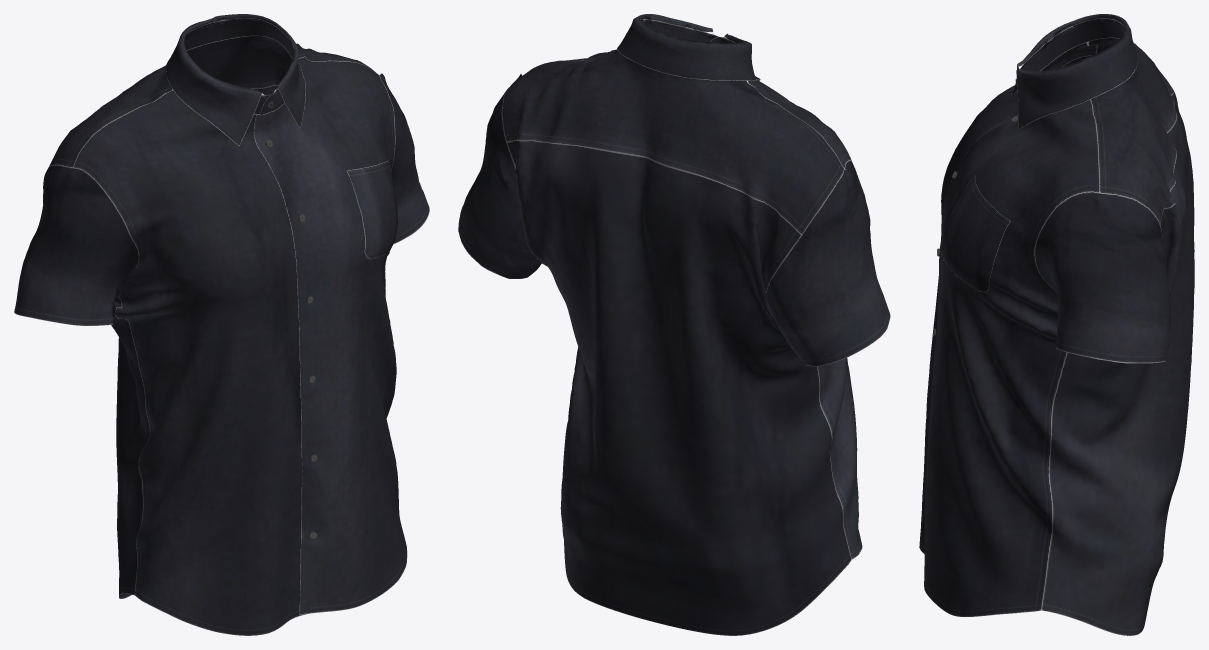
File: Grey half sleeve shirt,mtrapezoid-24.fbx
3 views of the same model, side by side, from view 1: azimuth 30°, elevation 25°; view 2: azimuth 150°, elevation 25°; view 3: azimuth 270°, elevation 25° (orthographic). The views are drawn at different scales.
Visible parts, largest first — view 1: Grey half sleeve shirt,mtrapezoid-24; view 2: Grey half sleeve shirt,mtrapezoid-24; view 3: Grey half sleeve shirt,mtrapezoid-24.
Part boxes in pixels (box(x1,y1,x2,y2)): Grey half sleeve shirt,mtrapezoid-24: box(14, 14, 429, 635); Grey half sleeve shirt,mtrapezoid-24: box(458, 14, 890, 635); Grey half sleeve shirt,mtrapezoid-24: box(919, 14, 1194, 635).
Bounding box in the file's own units: 24.8 × 32.84 × 14.32.
7 materials, 7 textured.
